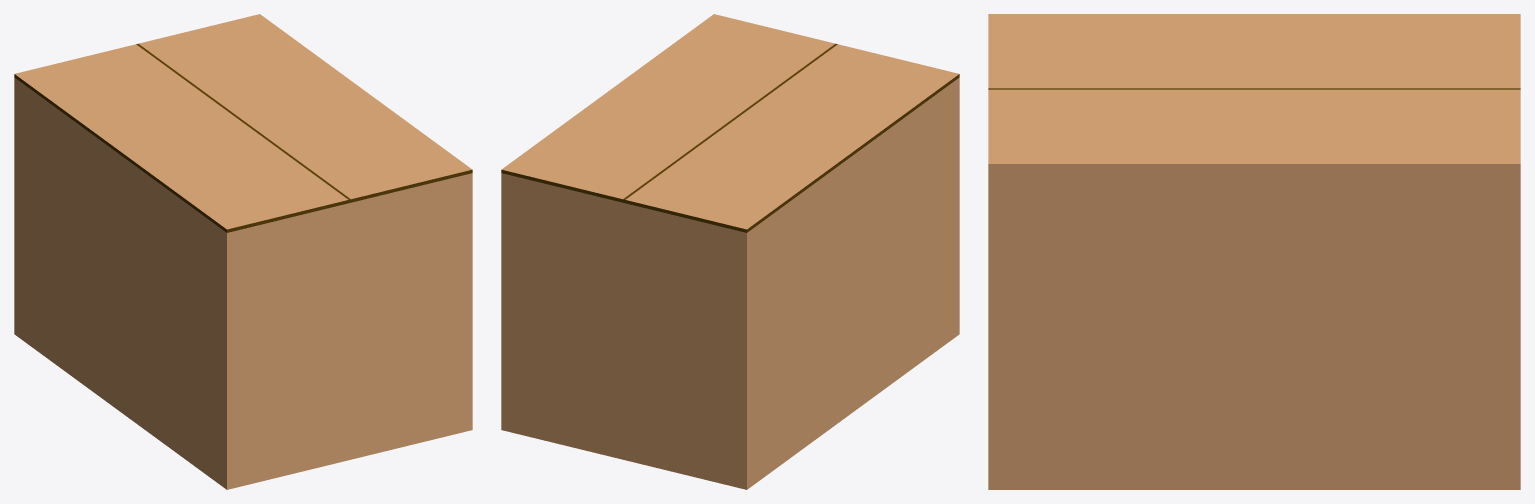
Rendered from Caixa.fbx.
3 renders of one model, left to right at view 1: azimuth 30°, elevation 25°; view 2: azimuth 150°, elevation 25°; view 3: azimuth 270°, elevation 25°, orthographic. The views are drawn at different scales.
Visible parts, largest first — view 1: Cube; view 2: Cube; view 3: Cube.
Boxes of the visible parts, left/top/right/bottom form: Cube: left=14, top=14, right=472, bottom=489; Cube: left=501, top=14, right=959, bottom=489; Cube: left=988, top=14, right=1520, bottom=489.
Size of the model in its own units: 200 by 203 by 300.
